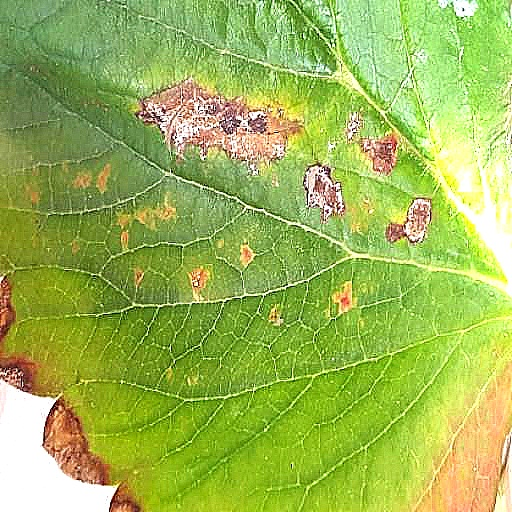Angular Leafspot: (16, 110, 453, 437)
